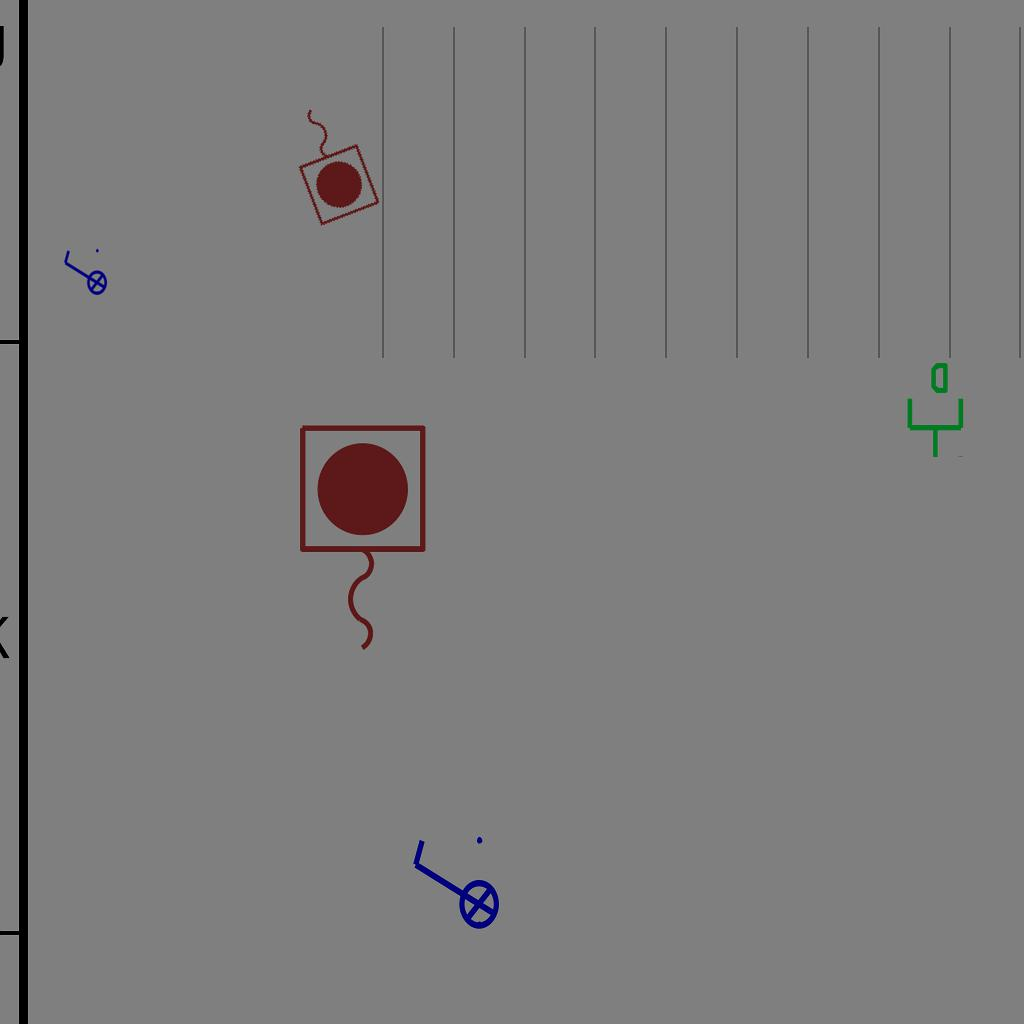Ausschalter_beleuchtet: (405, 831, 501, 943), (60, 246, 108, 302)
Datenanschluss_einfach: (899, 360, 968, 460)
Zugtaster: (289, 417, 433, 661), (275, 91, 387, 231)
